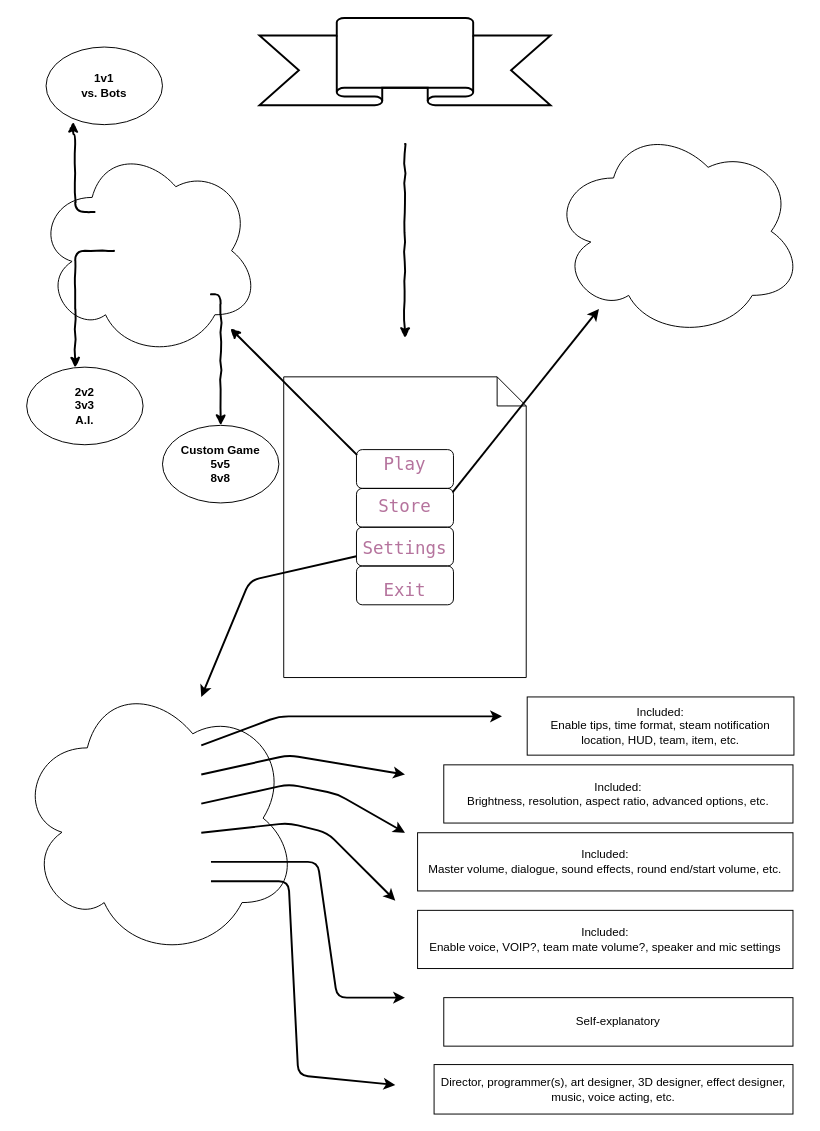
The diagram is 820 pixels wide and 1131 high, and some of its shapes have lost their labels. Here are the shapes that lost their labels. From the top down, the centre of each, then its label:
[404,61]: START SCENE
[147,250]: Practice CO-OP Multiplayer
[676,231]: Costumes Foods Palettes
[157,818]: Game Video Audio Voice Keybindings Credits
